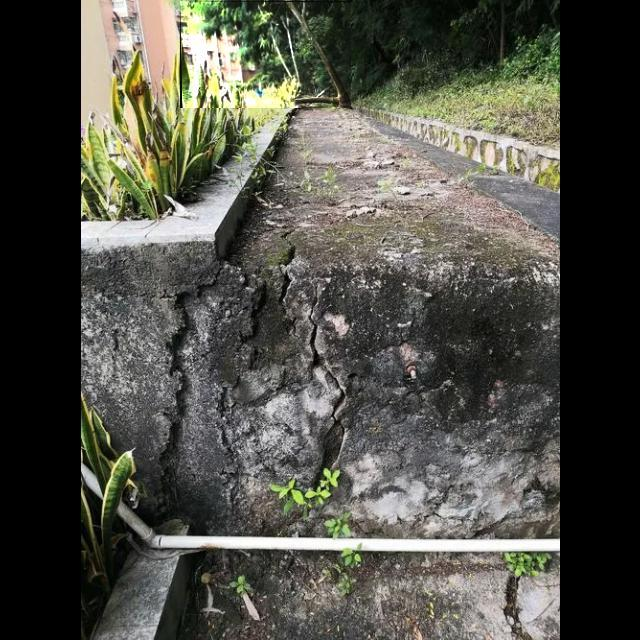fallen_tree: (180, 1, 352, 109)
